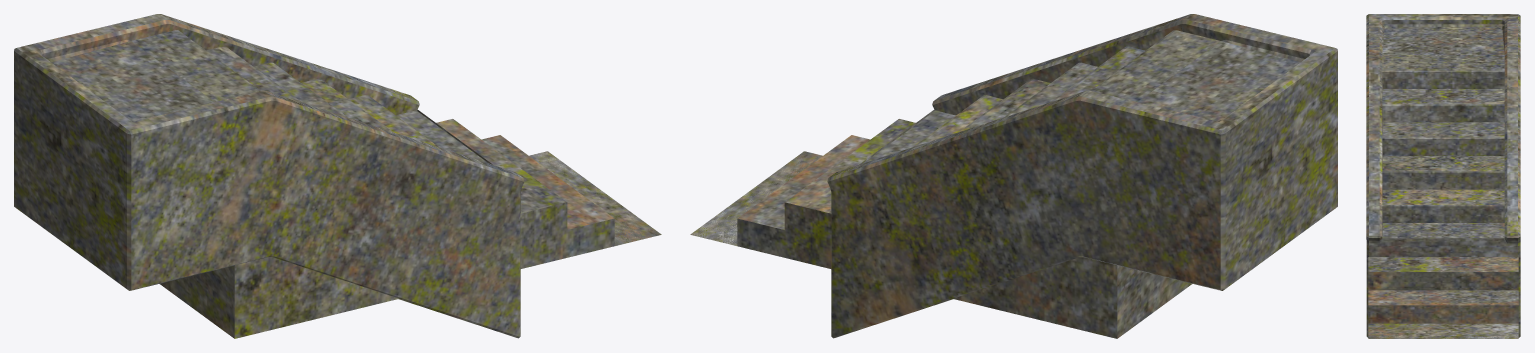
The model's file is leverwalk.fbx.
The picture shows the model from 3 angles, left to right: view 1: azimuth 30°, elevation 25°; view 2: azimuth 150°, elevation 25°; view 3: azimuth 270°, elevation 25°; orthographic projection. The views are drawn at different scales.
Parts seen in each view (by area): view 1: LeverWalk; view 2: LeverWalk; view 3: LeverWalk.
Part boxes in pixels (x1=…): LeverWalk: x1=14, y1=14, x2=661, y2=338; LeverWalk: x1=690, y1=14, x2=1337, y2=338; LeverWalk: x1=1366, y1=14, x2=1520, y2=338.
Bounding box in the file's own units: 2785 × 1508 × 1055.
